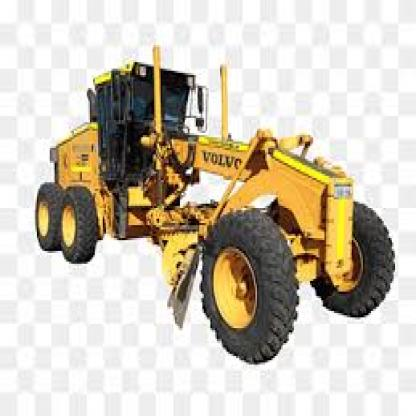bull_dozer/loader/grader: (29, 52, 398, 373)
